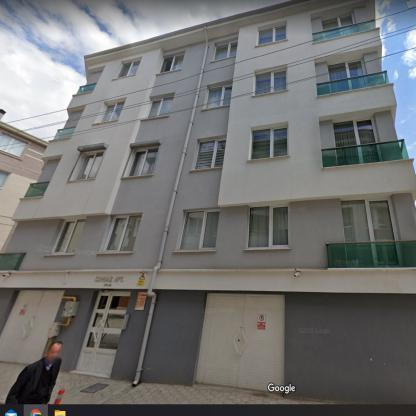door: (198, 293, 284, 393), (76, 289, 130, 376), (1, 290, 64, 363)
window: (341, 197, 402, 268), (332, 116, 382, 167), (246, 204, 290, 249), (178, 209, 220, 250), (102, 214, 142, 251), (50, 217, 86, 253), (250, 125, 288, 159), (122, 145, 160, 178), (69, 150, 105, 180), (194, 138, 225, 169), (327, 58, 366, 81), (254, 67, 286, 95), (0, 132, 28, 157), (145, 94, 174, 118), (257, 23, 287, 46), (205, 84, 232, 108), (322, 12, 355, 30), (100, 101, 124, 122), (213, 40, 237, 61), (159, 53, 184, 73), (116, 60, 140, 78), (0, 171, 10, 188)
